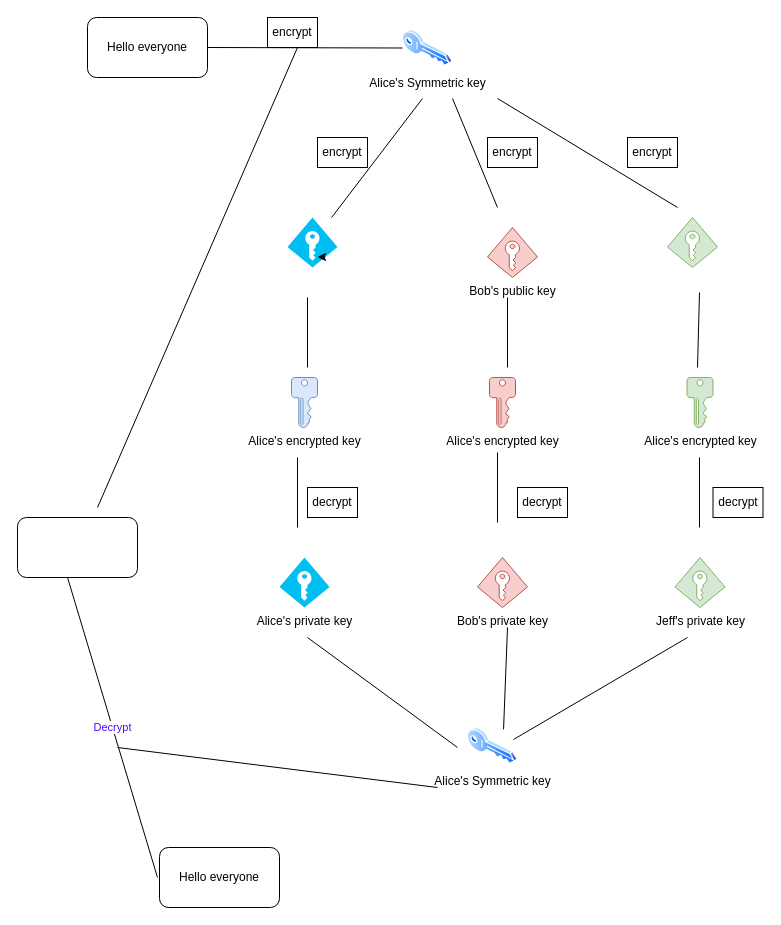
Some shapes in this 781 by 925 pixel diagram are drawn without their labels. Here are the shapes that lost their labels. From the top down, the centre of each, then its label:
At [312,242]: "Alice's public key".
At [692,242]: "Jef's Public key".
At [77,547]: "Encrypted message".
